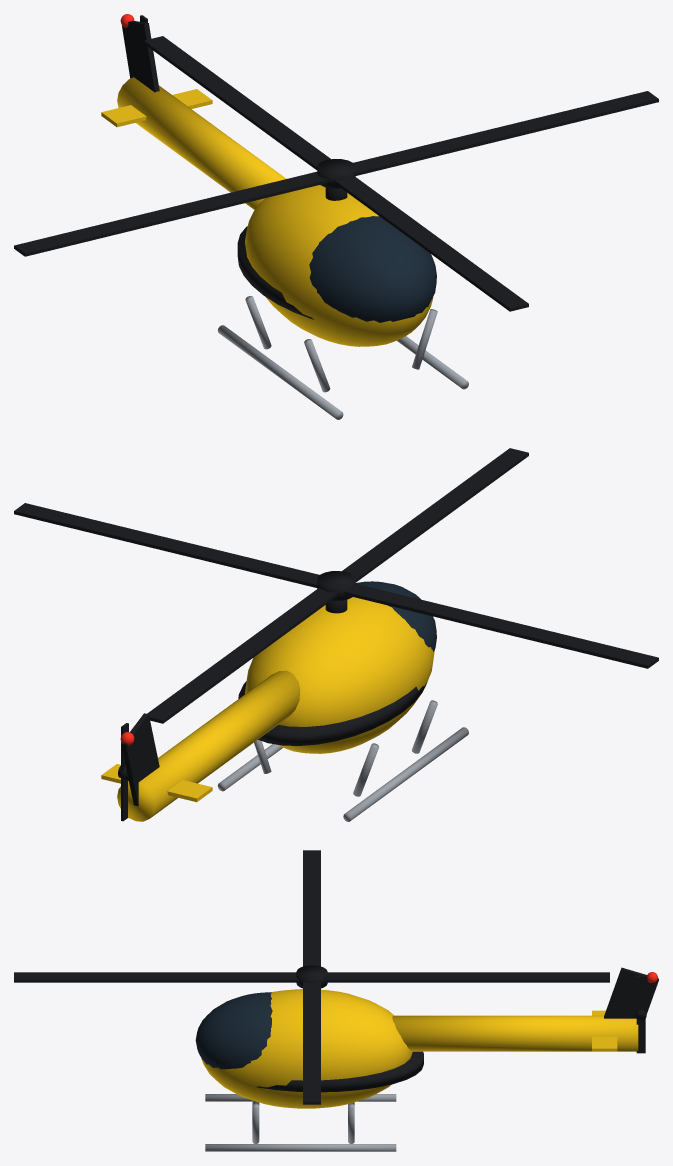
Rendered from heli.glb.
The picture shows the model from 3 angles, top to bottom: view 1: azimuth 30°, elevation 25°; view 2: azimuth 150°, elevation 25°; view 3: azimuth 270°, elevation 25°; orthographic projection. The views are drawn at different scales.
Visible parts, largest first — view 1: Rotor, Body, Sphere, Cylinder.001, Cube, Cylinder.005, Cylinder, Cube.001, Cylinder.002; view 2: Rotor, Body, Cylinder.001, Cylinder, Cube, Cylinder.005, Sphere, Cube.001, Cylinder.002, TailRotor; view 3: Body, Rotor, Cylinder.001, Sphere, Cylinder, Cube, Cylinder.002, TailRotor, Cylinder.005, Cube.001.
Boxes of the visible parts, x1=… form: Rotor: x1=14, y1=36, x2=658, y2=311; Body: x1=245, y1=185, x2=433, y2=346; Sphere: x1=309, y1=216, x2=436, y2=322; Cylinder.001: x1=117, y1=77, x2=286, y2=209; Cube: x1=122, y1=20, x2=159, y2=92; Cylinder.005: x1=217, y1=325, x2=343, y2=419; Cylinder: x1=237, y1=226, x2=314, y2=319; Cube.001: x1=101, y1=89, x2=212, y2=127; Cylinder.002: x1=397, y1=336, x2=468, y2=389; Rotor: x1=14, y1=448, x2=658, y2=723; Body: x1=245, y1=597, x2=434, y2=753; Cylinder.001: x1=117, y1=670, x2=300, y2=821; Cylinder: x1=238, y1=681, x2=427, y2=745; Cube: x1=121, y1=713, x2=159, y2=806; Cylinder.005: x1=343, y1=727, x2=468, y2=821; Sphere: x1=355, y1=581, x2=436, y2=651; Cube.001: x1=101, y1=764, x2=212, y2=802; Cylinder.002: x1=217, y1=744, x2=282, y2=791; TailRotor: x1=118, y1=723, x2=128, y2=821; Body: x1=201, y1=989, x2=412, y2=1108; Rotor: x1=14, y1=850, x2=609, y2=1104; Cylinder.001: x1=392, y1=1015, x2=638, y2=1051; Sphere: x1=195, y1=992, x2=272, y2=1069; Cylinder: x1=256, y1=1051, x2=423, y2=1092; Cube: x1=604, y1=967, x2=658, y2=1018; Cylinder.002: x1=205, y1=1144, x2=396, y2=1151; TailRotor: x1=635, y1=975, x2=646, y2=1053; Cylinder.005: x1=205, y1=1094, x2=396, y2=1101; Cube.001: x1=592, y1=1010, x2=617, y2=1051.
Bounding box in the file's own units: 10.6 × 3.1 × 11.47.
